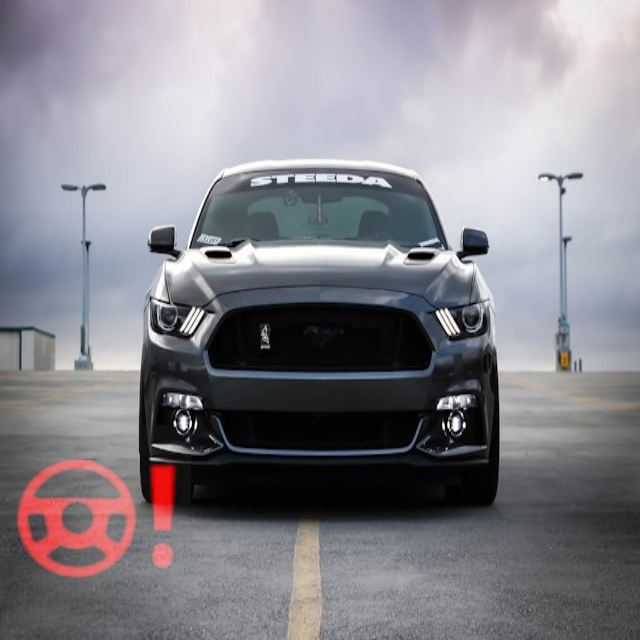symbol: (2, 425, 191, 614)
